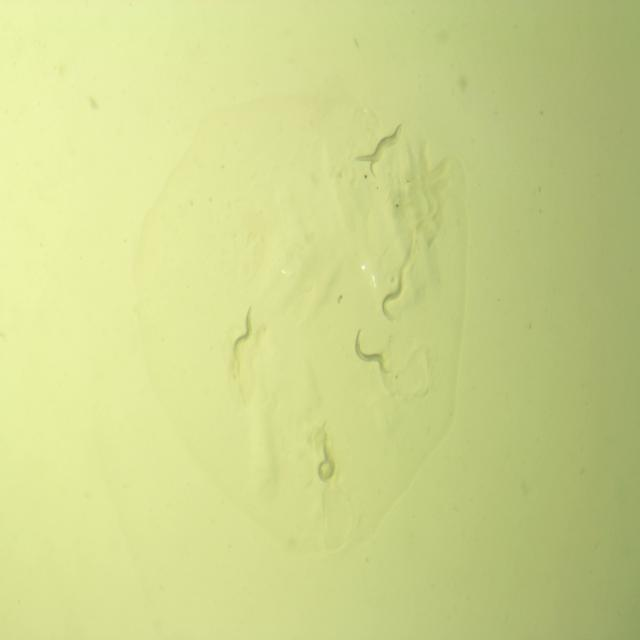worm: (352, 122, 401, 165), (367, 124, 402, 181), (353, 326, 390, 376), (230, 303, 256, 362), (380, 273, 405, 323), (316, 437, 337, 486)
